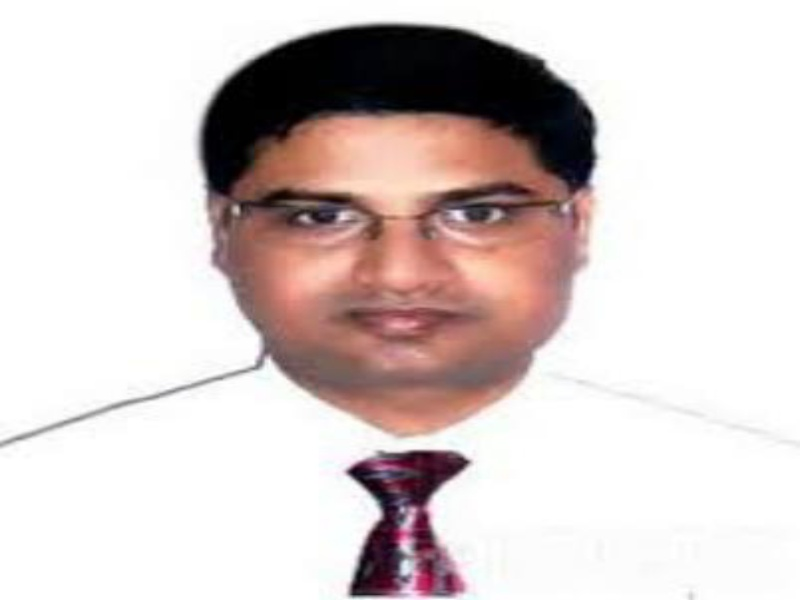TsisyArotava: (187, 20, 616, 424)
